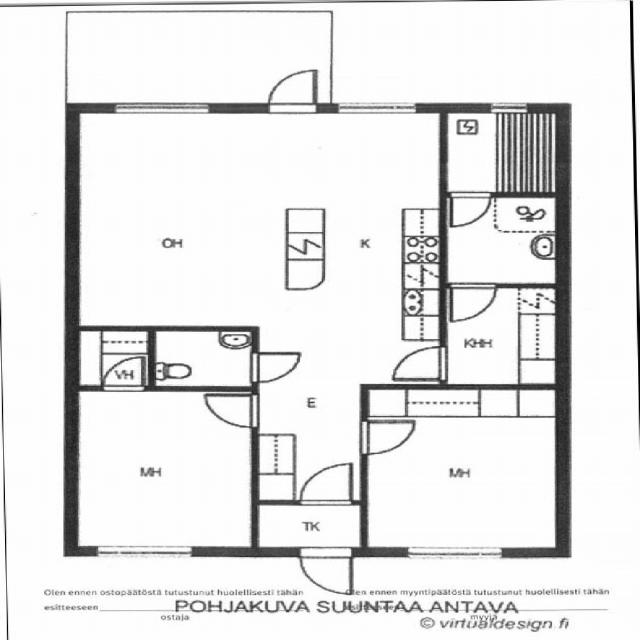door: (299, 547, 352, 593), (300, 464, 352, 504), (269, 70, 316, 112), (360, 420, 415, 454), (392, 346, 445, 381), (205, 394, 258, 427), (450, 283, 496, 320), (251, 352, 300, 382), (104, 358, 144, 391), (451, 193, 491, 225)
